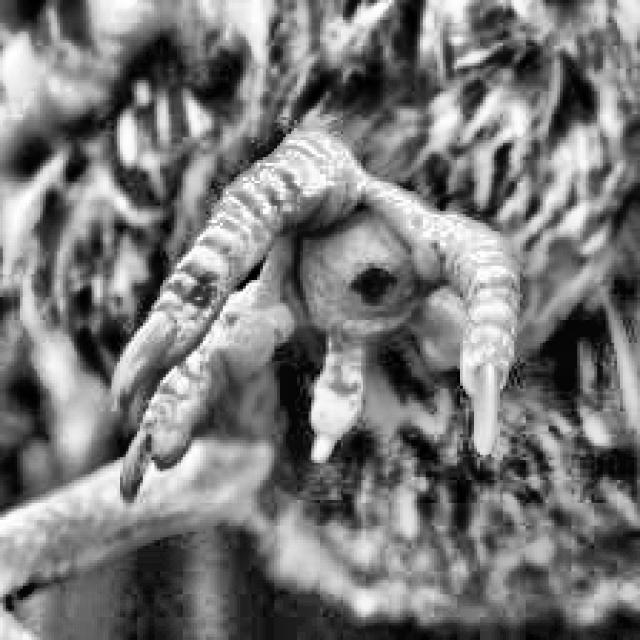Bumble foot: (299, 218, 447, 352)
